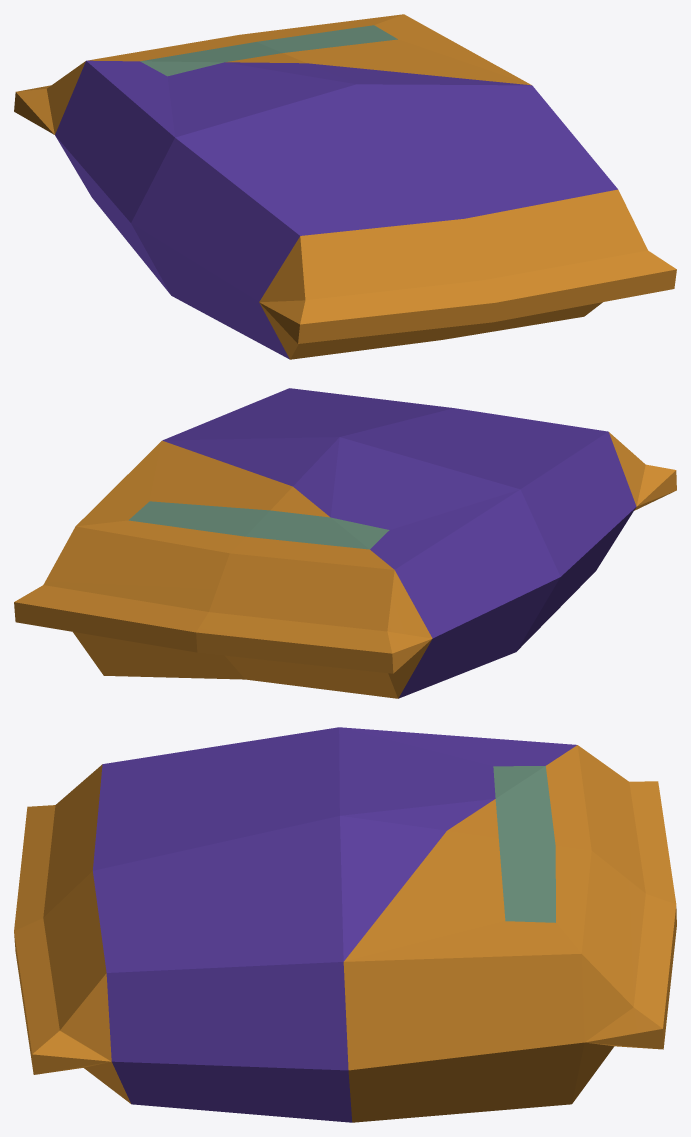
File: SM_Prop_Snack_02.fbx
3 renders of one model, top to bottom at view 1: azimuth 30°, elevation 25°; view 2: azimuth 150°, elevation 25°; view 3: azimuth 270°, elevation 25°, orthographic. The views are drawn at different scales.
Visible parts, largest first — view 1: SM_Prop_Snack_02; view 2: SM_Prop_Snack_02; view 3: SM_Prop_Snack_02.
Boxes of the visible parts, <box> form: SM_Prop_Snack_02: <box>14,14,676,359</box>; SM_Prop_Snack_02: <box>14,388,676,698</box>; SM_Prop_Snack_02: <box>14,727,676,1122</box>.
Size of the model in its own units: 16.02 by 7.64 by 19.32.
